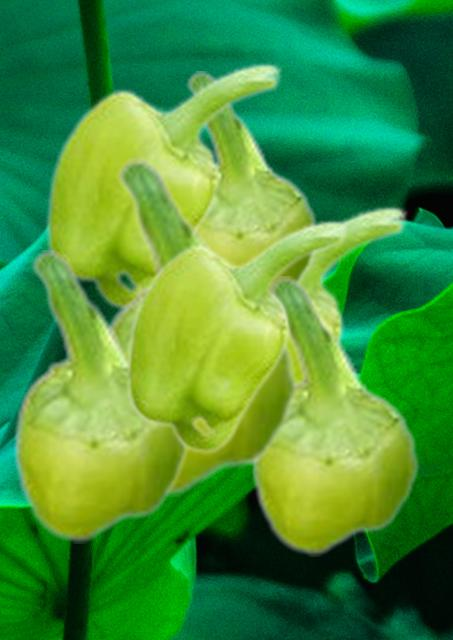bell_pepper: (107, 158, 298, 495), (44, 61, 282, 309), (124, 218, 348, 454), (12, 250, 188, 542), (250, 276, 419, 555), (180, 71, 318, 284), (290, 204, 408, 378)
